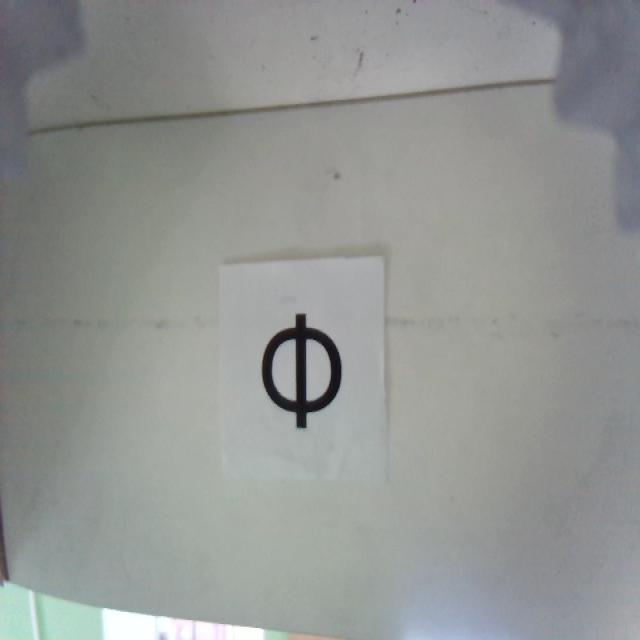F: (260, 313, 341, 425)
